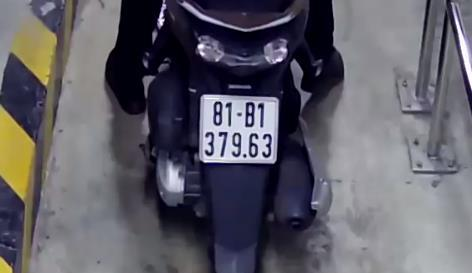lisence: (200, 94, 278, 166)
